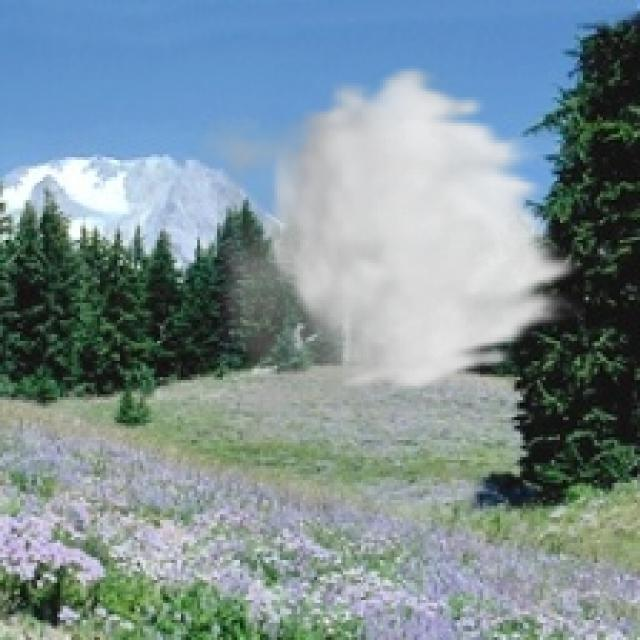Smoke: (188, 63, 586, 463)
